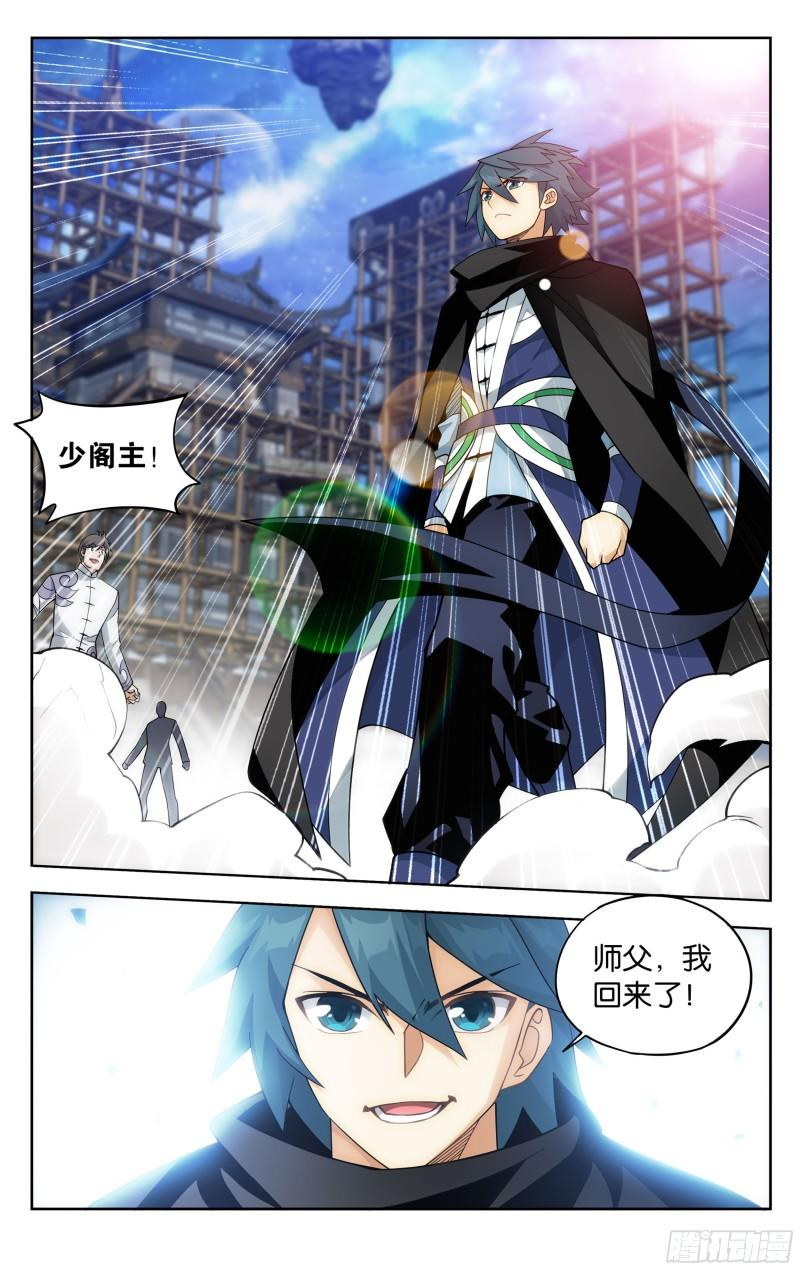boxBomb: (9, 395, 201, 520)
boxEllipse: (546, 889, 753, 1060)
minBox: (24, 29, 777, 919), (21, 886, 777, 1219)
